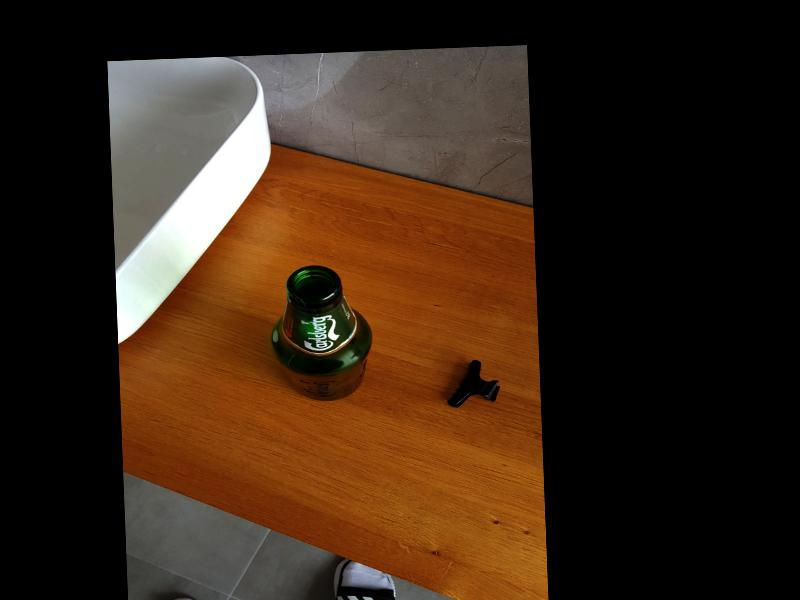Beer: (267, 264, 374, 403)
